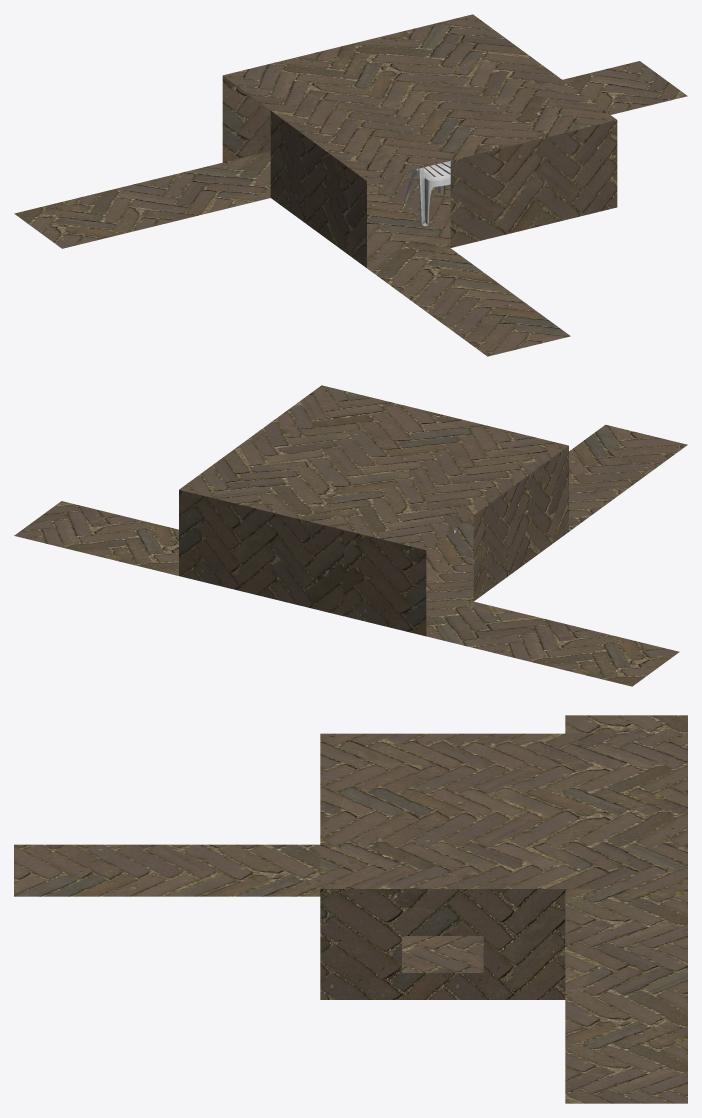
File: chairroom.glb
3 renders of one model, top to bottom at view 1: azimuth 30°, elevation 25°; view 2: azimuth 150°, elevation 25°; view 3: azimuth 270°, elevation 25°, orthographic. The views are drawn at different scales.
Visible parts, largest first — view 1: Plane, plastic_monobloc_chair_01; view 2: Plane; view 3: Plane.
Part boxes in pixels (x1,y1,x2,y2): Plane: (14,14,687,356); plastic_monobloc_chair_01: (402,161,450,226); Plane: (14,385,687,686); Plane: (14,715,687,1103).
Bounding box in the file's own units: 480 × 64 × 352.
Materials: 2 (2 with a texture image).
